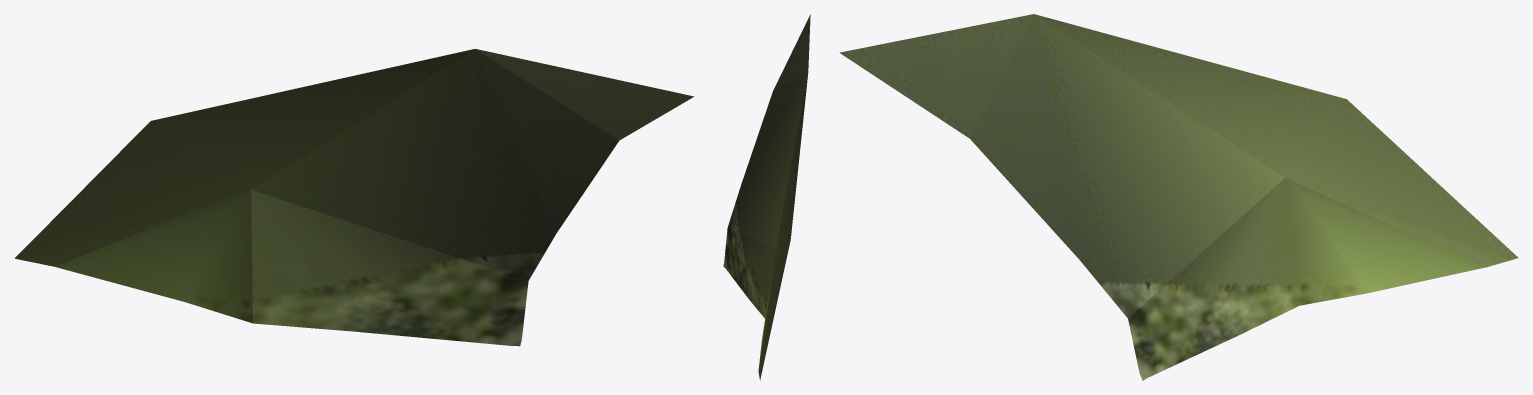
The picture shows the model from 3 angles, left to right: view 1: azimuth 30°, elevation 25°; view 2: azimuth 150°, elevation 25°; view 3: azimuth 270°, elevation 25°; orthographic projection. The views are drawn at different scales.
Bounding box in the file's own units: 9.17 × 11.42 × 21.43.
1 material, 1 textured.
